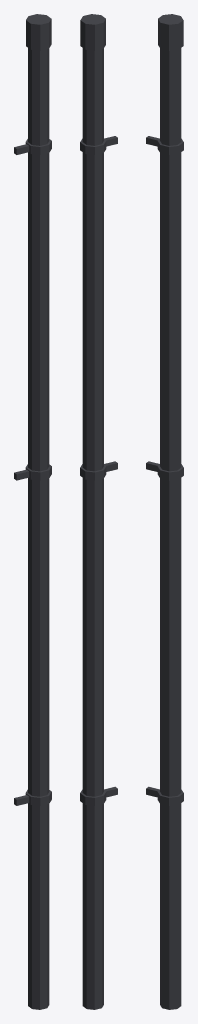
Rendered from SM_Fixture_Downpipe_R_01.gltf.
3 renders of one model, left to right at view 1: azimuth 30°, elevation 25°; view 2: azimuth 210°, elevation 25°; view 3: azimuth 330°, elevation 25°, orthographic.
Visible parts, largest first — view 1: SM_Fixture_Downpipe_R_01; view 2: SM_Fixture_Downpipe_R_01; view 3: SM_Fixture_Downpipe_R_01.
Part boxes in pixels (box(x1,y1,x2,y2)): SM_Fixture_Downpipe_R_01: box(14, 14, 51, 1009); SM_Fixture_Downpipe_R_01: box(80, 14, 117, 1009); SM_Fixture_Downpipe_R_01: box(146, 14, 183, 1009).
Bounding box in the file's own units: 0.1092 × 3.03 × 0.0684.
Materials: 1 (1 with a texture image).
